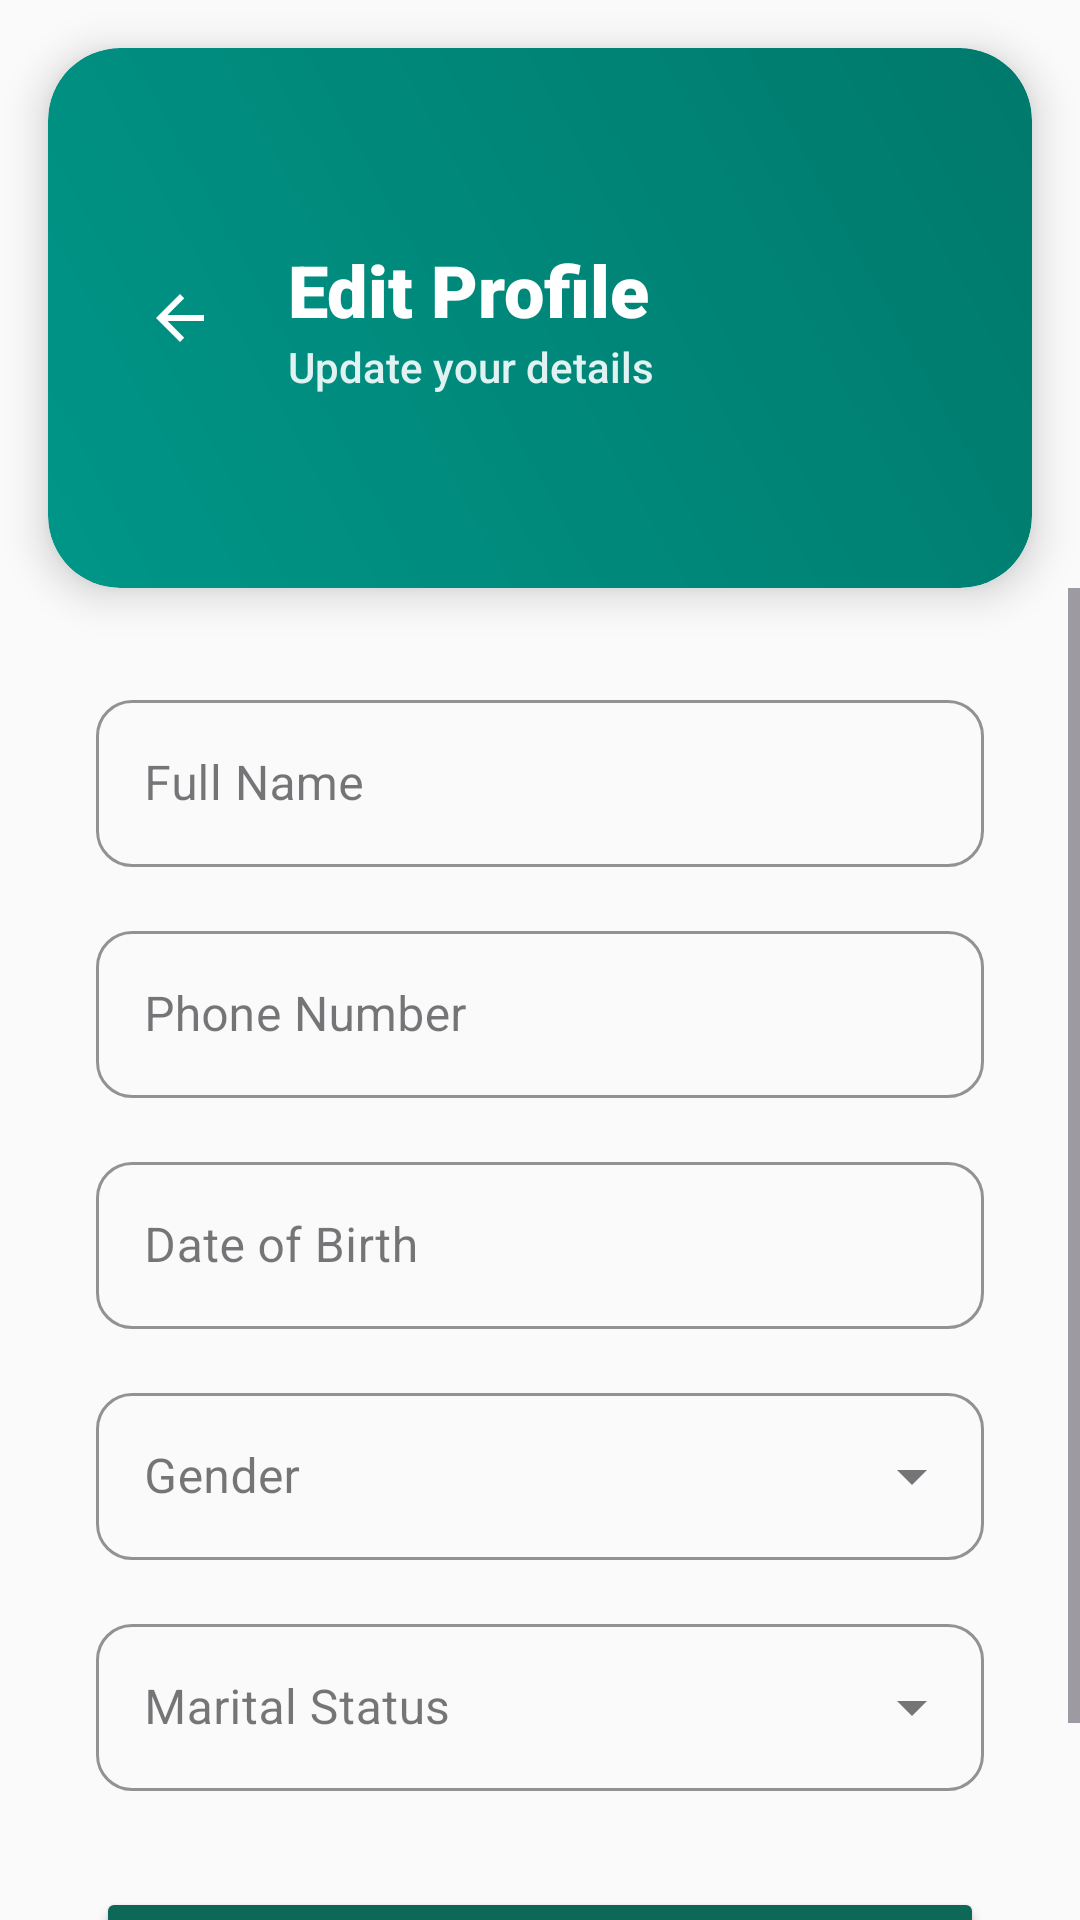

Named icons in this screenshot (1080*1920) and their bounding boxes, (x1, y1, x2, y2):
back: (156, 294, 204, 342)
